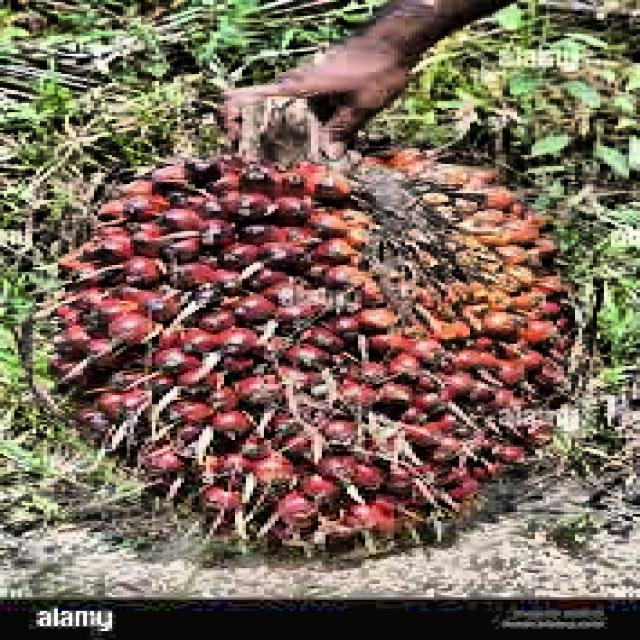FFB: (48, 102, 577, 562)
